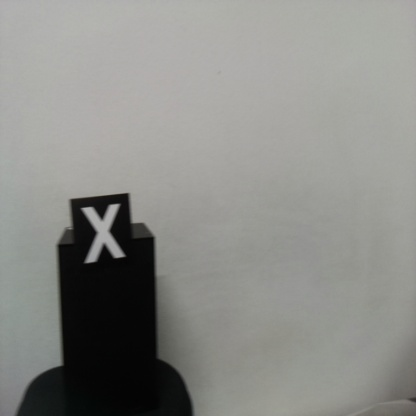id_13: (69, 197, 133, 278)
